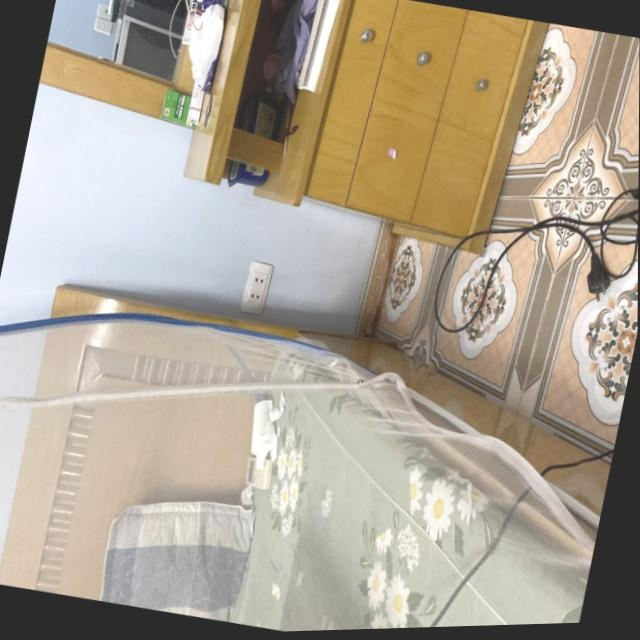outlet: (240, 259, 274, 316)
